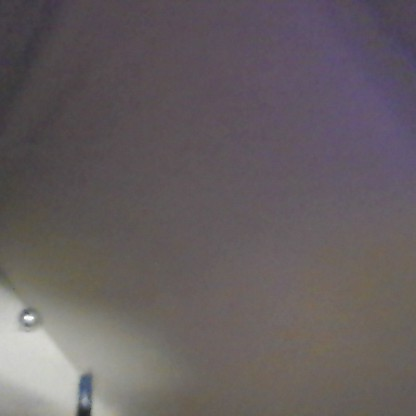ironball: (16, 299, 48, 331)
